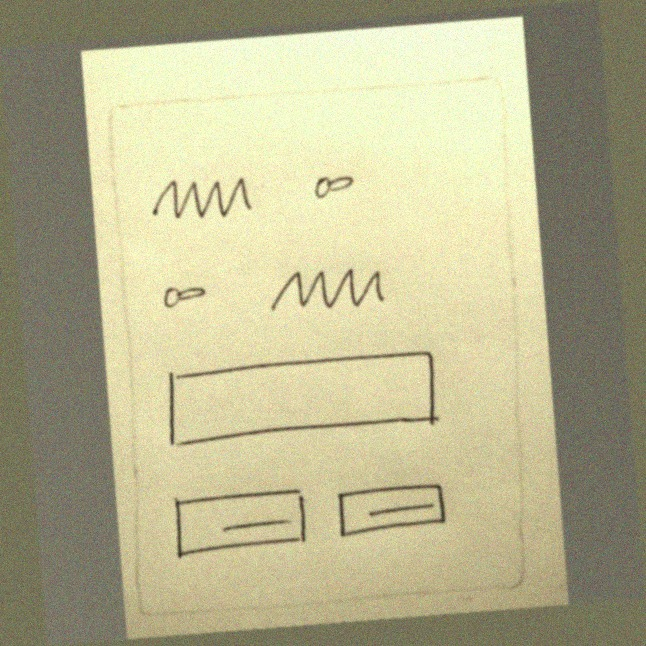button: (162, 480, 318, 563), (330, 476, 464, 544)
switch: (151, 271, 220, 321), (302, 168, 373, 207)
text: (260, 252, 407, 320), (136, 162, 264, 230)
text_input: (154, 343, 451, 454)
